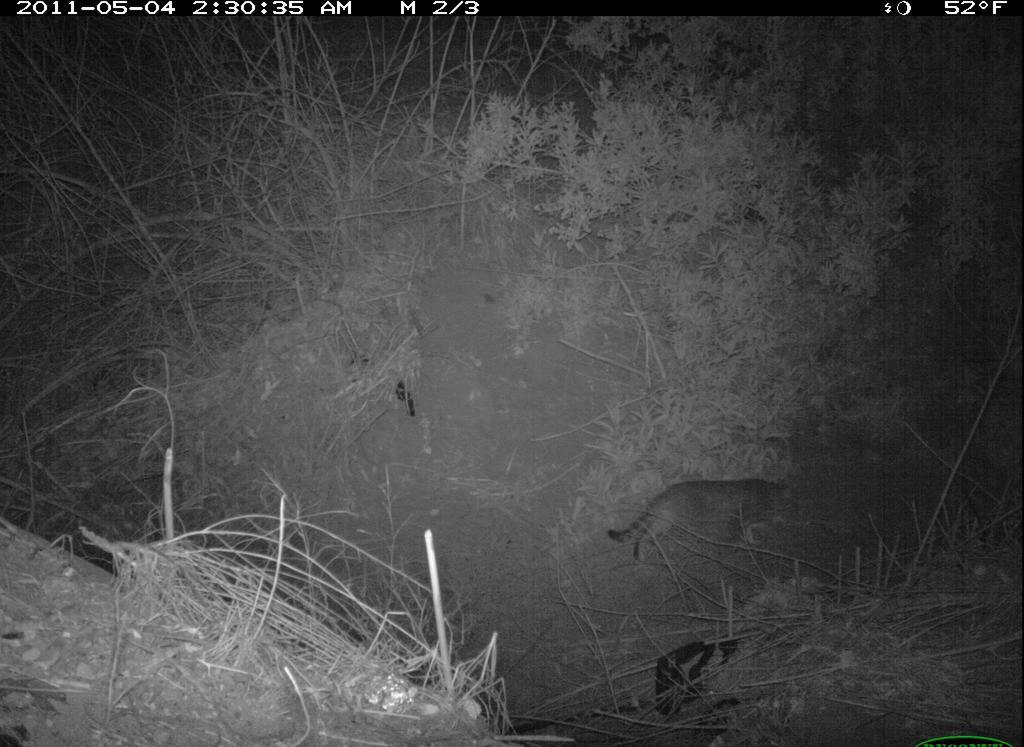cat: (606, 472, 802, 571)
